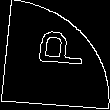P_W: (26, 34, 84, 76)
